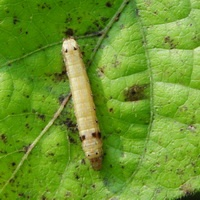insect: (62, 37, 102, 169)
